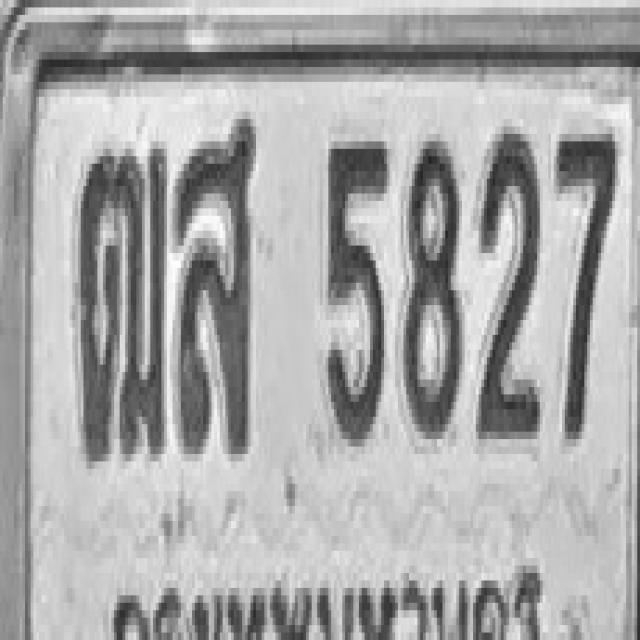2: (476, 127, 540, 439)
27ThorPhuThao: (76, 142, 168, 462)
49SorSuea: (174, 112, 255, 454)
5: (324, 134, 388, 446)
7: (555, 127, 616, 439)
8: (402, 134, 461, 439)
